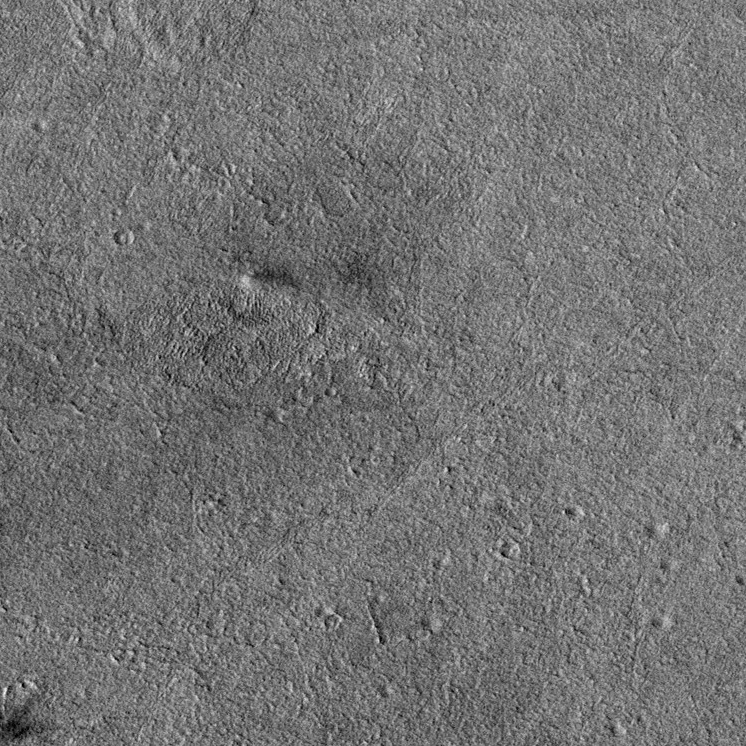dust_devil: (236, 268, 307, 301)
